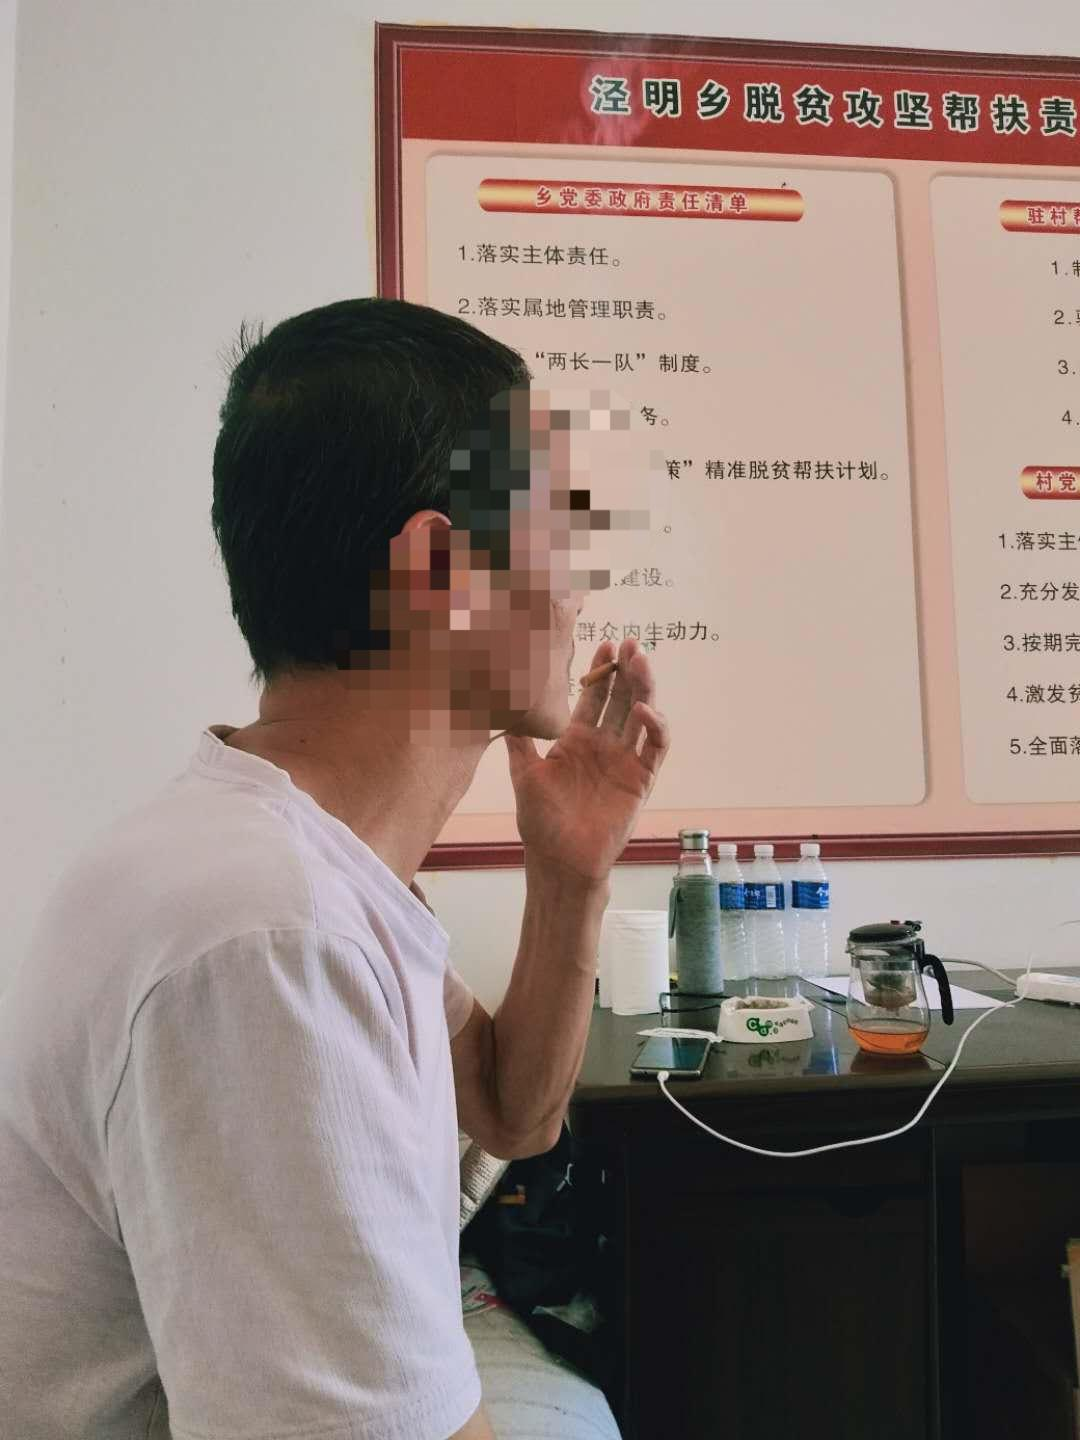smoke: (576, 655, 622, 694)
